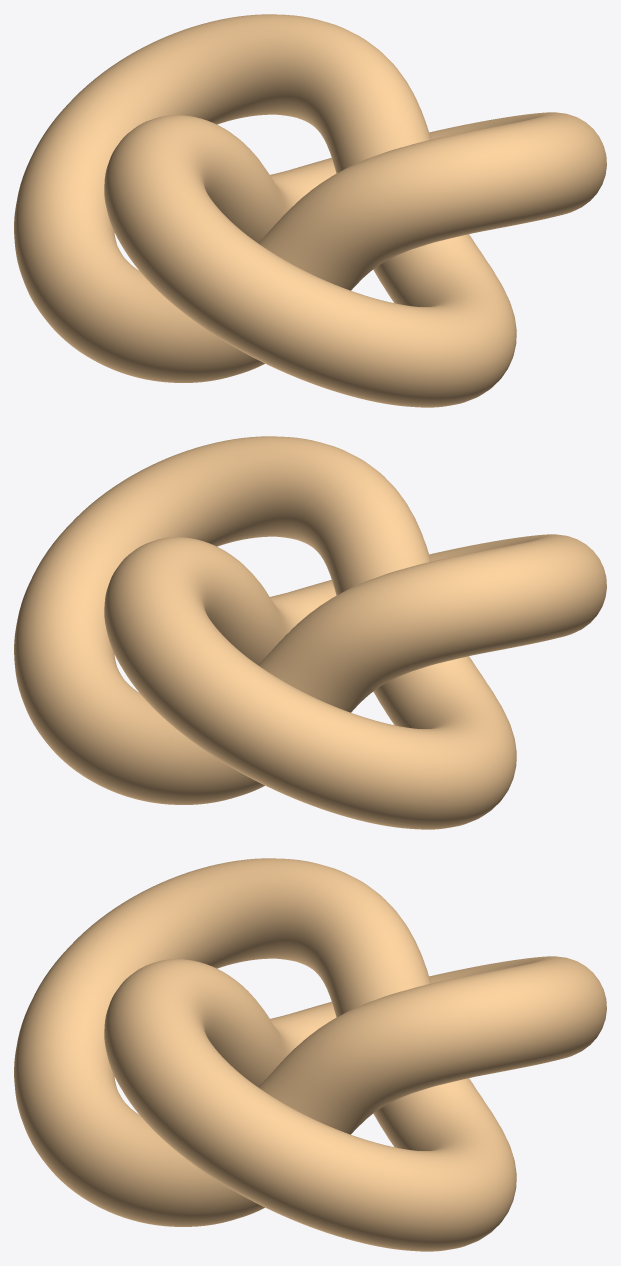
3 renders of one model, top to bottom at view 1: azimuth 30°, elevation 25°; view 2: azimuth 150°, elevation 25°; view 3: azimuth 270°, elevation 25°, orthographic.
Parts seen in each view (by area): view 1: Torusknoten; view 2: Torusknoten; view 3: Torusknoten.
Boxes of the visible parts, x1,y1,x2,y2 form: Torusknoten: (14,14,606,407); Torusknoten: (14,436,606,829); Torusknoten: (14,858,606,1251).
Size of the model in its own units: 3.16 by 1.46 by 3.3.
